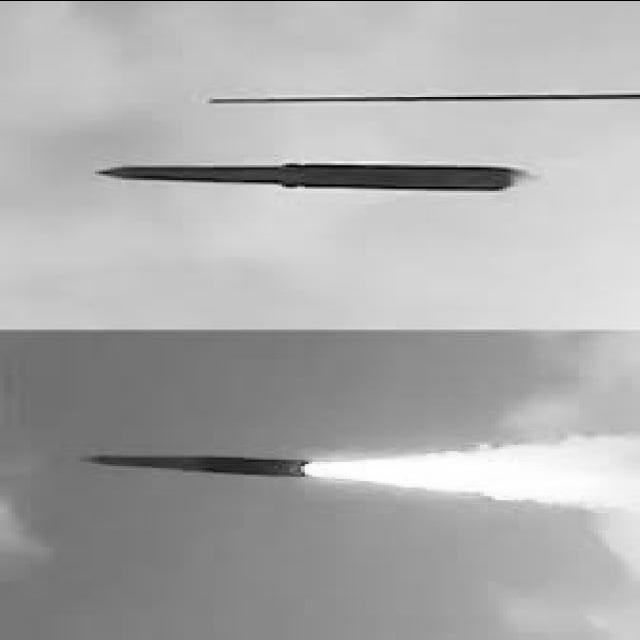Missile: (93, 158, 530, 196), (76, 450, 319, 482)
